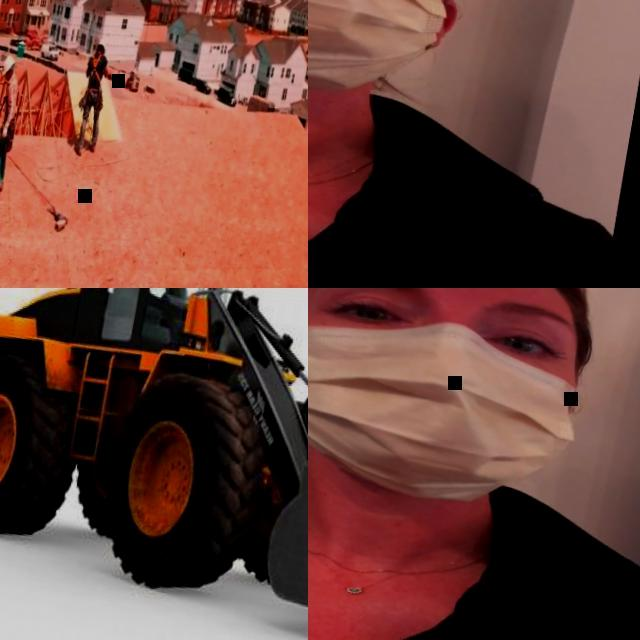helmet: (2, 54, 16, 76), (96, 38, 108, 52)
machinery: (0, 288, 308, 640), (24, 29, 44, 51)
mask: (308, 307, 589, 522), (308, 0, 471, 108)
no_helmet: (308, 288, 604, 315)
no_mask: (5, 73, 11, 80)
no_vest: (308, 42, 602, 288), (308, 457, 640, 640), (86, 54, 106, 90)
person: (308, 288, 640, 640), (308, 0, 640, 288), (72, 37, 115, 158), (0, 53, 27, 192)
vehicle: (216, 85, 238, 107), (40, 40, 60, 60), (176, 66, 197, 84), (194, 77, 212, 94)
